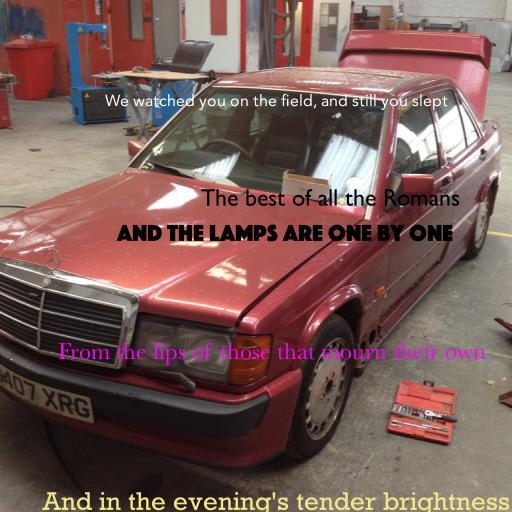Avenir: (104, 93, 448, 110)
Baskerville: (58, 342, 486, 365)
Gill Sans: (200, 189, 460, 206)
Phosphate: (117, 224, 453, 242)
Rockwell: (42, 491, 510, 512)
